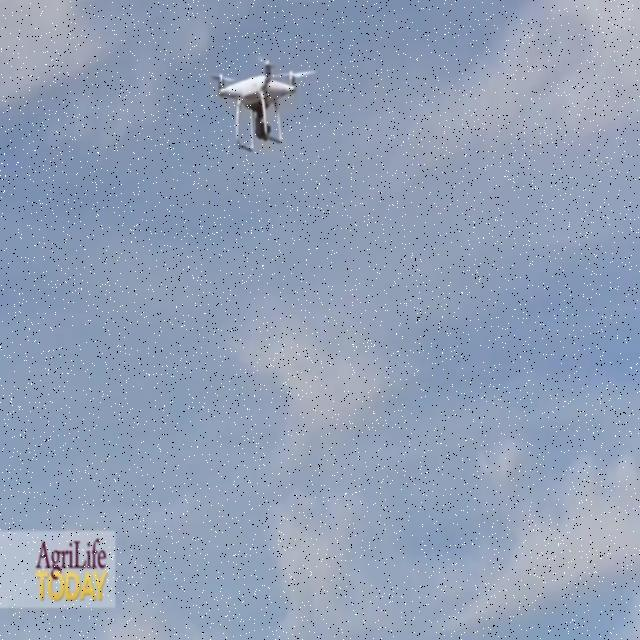UAV: (200, 56, 316, 152)
